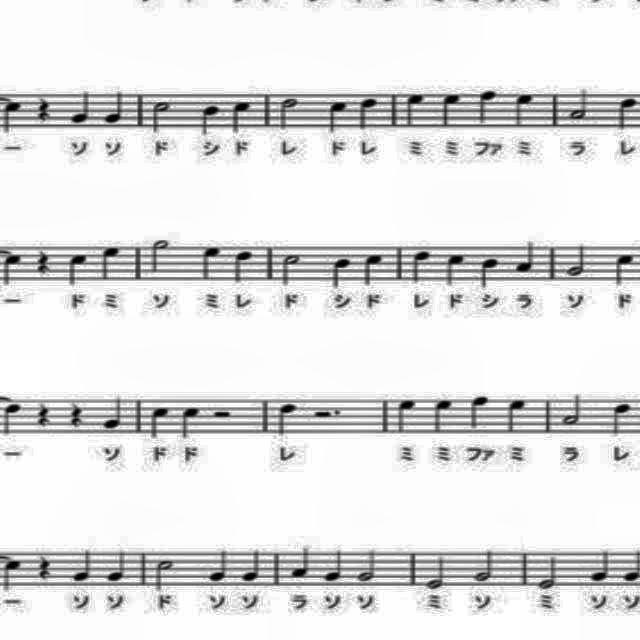Half-note: (420, 544, 448, 594), (352, 542, 381, 588), (560, 240, 592, 280), (566, 80, 594, 124), (149, 96, 177, 138), (276, 248, 304, 288), (472, 545, 501, 583), (143, 236, 171, 274), (277, 90, 301, 134), (149, 557, 179, 591), (536, 552, 560, 592), (562, 388, 582, 428)
Half-rest: (308, 404, 352, 424), (206, 405, 242, 423)
Quarter-note: (100, 390, 132, 438), (393, 391, 421, 442), (144, 404, 176, 448), (467, 392, 498, 436), (511, 86, 539, 134), (442, 244, 470, 292), (288, 543, 320, 585), (438, 88, 468, 132), (195, 101, 229, 139), (431, 392, 459, 438), (272, 398, 304, 438), (473, 88, 502, 132), (67, 540, 96, 584), (178, 398, 204, 447), (610, 93, 640, 135), (606, 394, 632, 442), (477, 251, 508, 291), (228, 95, 256, 139), (99, 240, 127, 284), (506, 396, 534, 440), (197, 244, 227, 284), (105, 546, 132, 590), (232, 245, 260, 287), (67, 88, 96, 128), (514, 240, 540, 284), (204, 546, 232, 586), (238, 544, 266, 584), (408, 247, 437, 285), (0, 250, 28, 289), (62, 252, 92, 288), (0, 403, 28, 441), (104, 88, 130, 128), (0, 100, 26, 140), (355, 93, 381, 133), (329, 250, 355, 290), (362, 248, 388, 288), (0, 554, 26, 594), (588, 546, 614, 586), (320, 544, 344, 584), (402, 90, 426, 130), (614, 248, 638, 288), (327, 100, 351, 136)
Quarter-rest: (32, 547, 59, 585), (33, 392, 56, 432), (31, 93, 59, 125), (67, 396, 89, 432), (31, 248, 58, 276)
